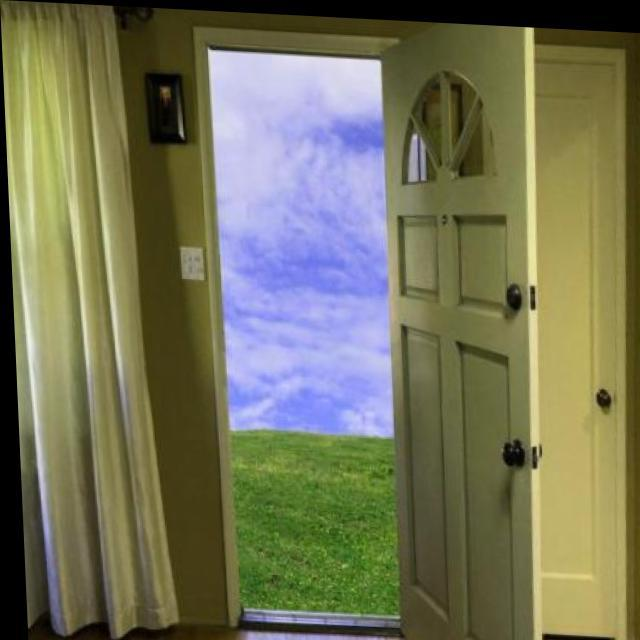door_handle: (487, 417, 534, 473)
